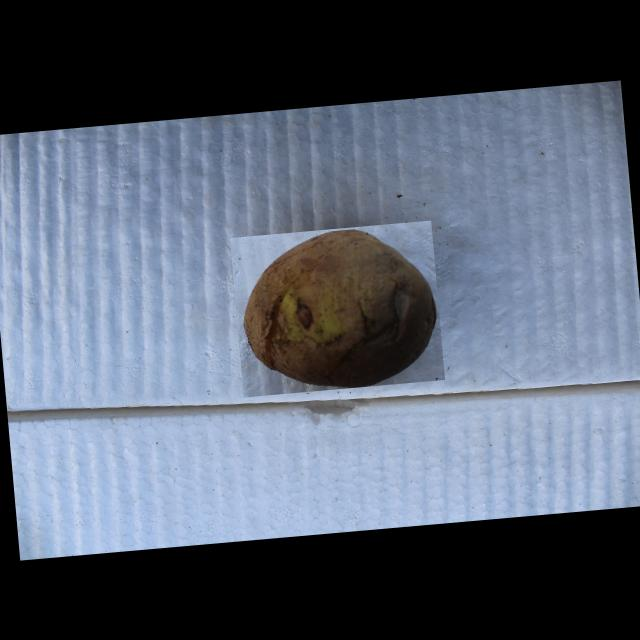Diseased-fungal potato: (230, 220, 444, 397)
